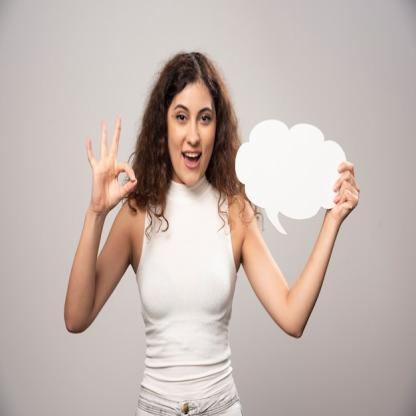ok: (82, 112, 140, 216)
